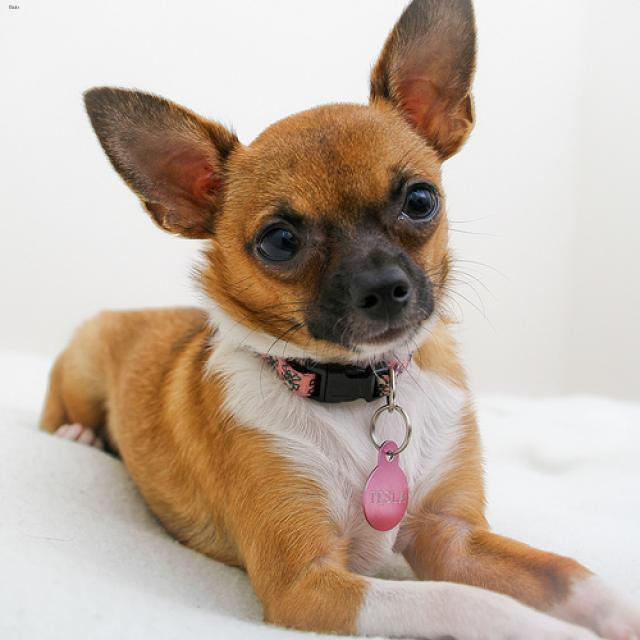dog-chihuahua: (28, 1, 637, 637)
